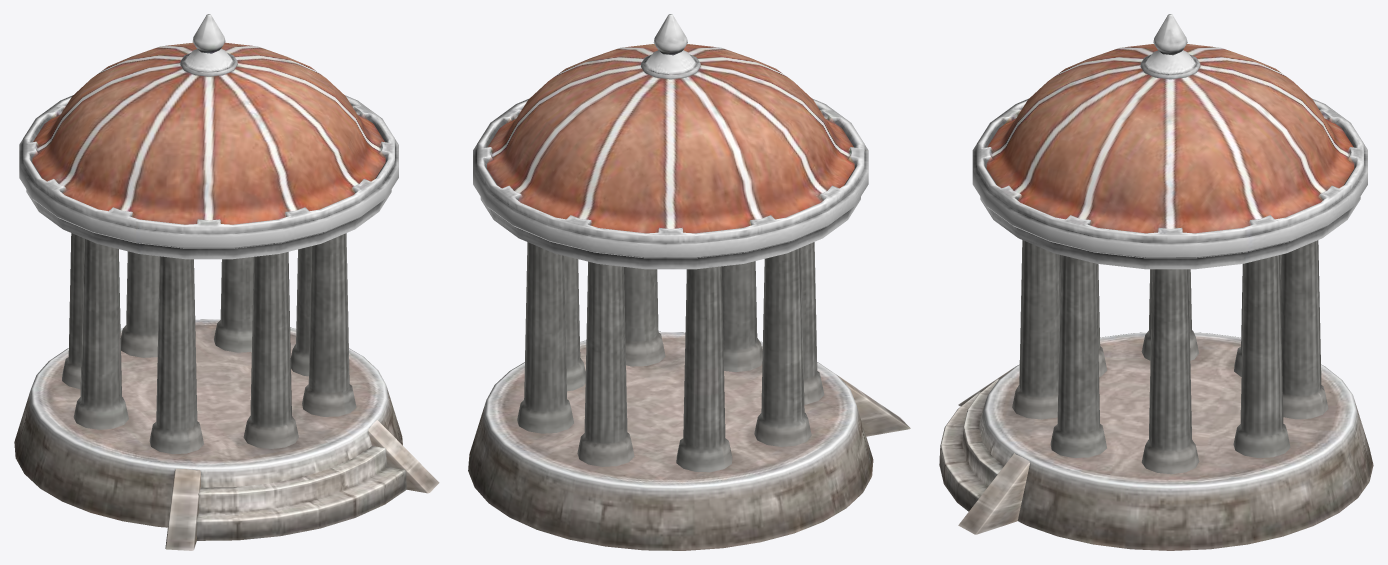
File: 64-shrine.glb
The picture shows the model from 3 angles, left to right: view 1: azimuth 30°, elevation 25°; view 2: azimuth 150°, elevation 25°; view 3: azimuth 270°, elevation 25°; orthographic projection. The views are drawn at different scales.
Bounding box in the file's own units: 3.93 × 4.81 × 4.21.
Materials: 1 (1 with a texture image).
